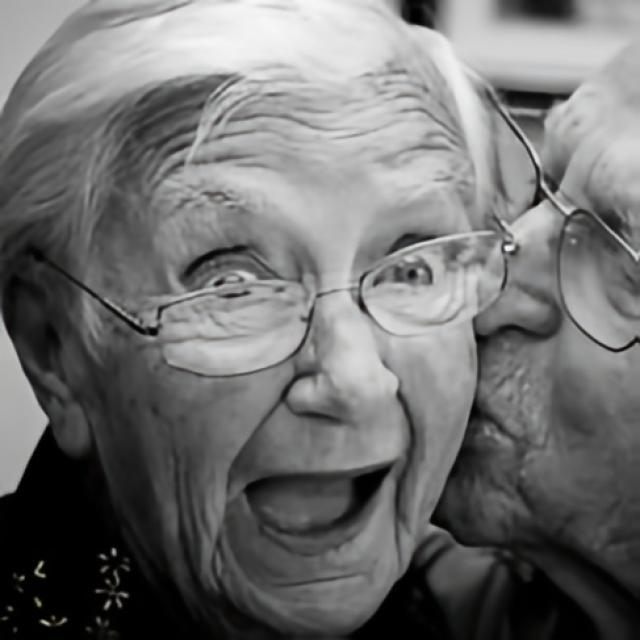fear: (101, 81, 481, 640)
